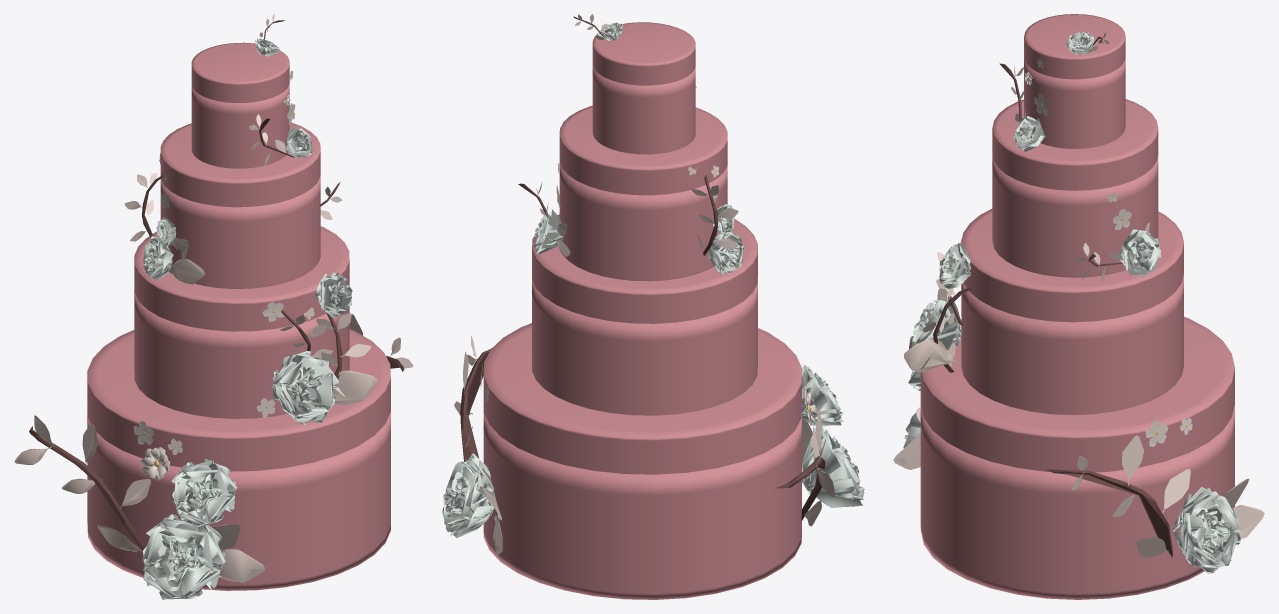
File: 4-tier-blush-roses-none.glb
The picture shows the model from 3 angles, left to right: view 1: azimuth 30°, elevation 25°; view 2: azimuth 150°, elevation 25°; view 3: azimuth 270°, elevation 25°; orthographic projection. The views are drawn at different scales.
Visible parts, largest first — view 1: 3.001, 3, 2, 1, grid.013, Plane.024, grid.016, grid.012, grid.015, Plane.009, Plane.022, Plane.042 (+7 smaller); view 2: 3.001, 3, 2, 1, grid.020, grid.013, Plane.008, Plane.024, grid.012, grid.017, Plane.023, grid.019; view 3: 3.001, 3, 2, 1, grid.020, Plane.008, grid.016, grid.019, Plane.009, grid.015, grid.021, Plane.042 (+3 smaller).
Part boxes in pixels (x1,y1,x2,y2): 3.001: (87, 329, 390, 590); 3: (134, 226, 349, 418); 2: (160, 122, 320, 288); 1: (191, 42, 289, 168); grid.013: (142, 514, 225, 599); Plane.024: (14, 415, 150, 552); grid.016: (272, 351, 338, 425); grid.012: (171, 458, 237, 527); grid.015: (315, 272, 352, 317); Plane.009: (333, 370, 377, 405); Plane.022: (219, 549, 265, 582); Plane.042: (316, 313, 371, 396); 3.001: (483, 323, 801, 599); 3: (532, 214, 757, 415); 2: (559, 105, 727, 281); 1: (592, 22, 695, 154); grid.020: (442, 453, 496, 537); grid.013: (802, 427, 864, 507); Plane.008: (454, 336, 491, 461); Plane.024: (775, 408, 834, 526); grid.012: (802, 365, 843, 426); grid.017: (708, 232, 744, 274); Plane.023: (691, 175, 738, 255); grid.019: (534, 209, 562, 254); 3.001: (920, 316, 1234, 599); 3: (961, 209, 1183, 415); 2: (992, 99, 1158, 277); 1: (1024, 14, 1125, 148); grid.020: (1172, 487, 1240, 573); Plane.008: (1046, 435, 1190, 557); grid.016: (909, 296, 961, 349); grid.019: (1119, 229, 1161, 277); Plane.009: (904, 337, 960, 371); grid.015: (939, 243, 970, 288); grid.021: (1013, 116, 1045, 151); Plane.042: (920, 287, 970, 372).
Size of the model in its own units: 6.25 by 7.85 by 5.05.
